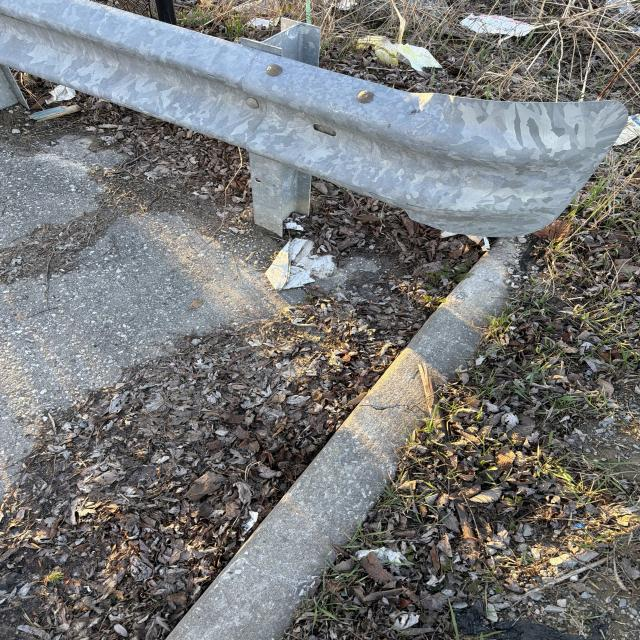Guard rail: (0, 9, 586, 218)
